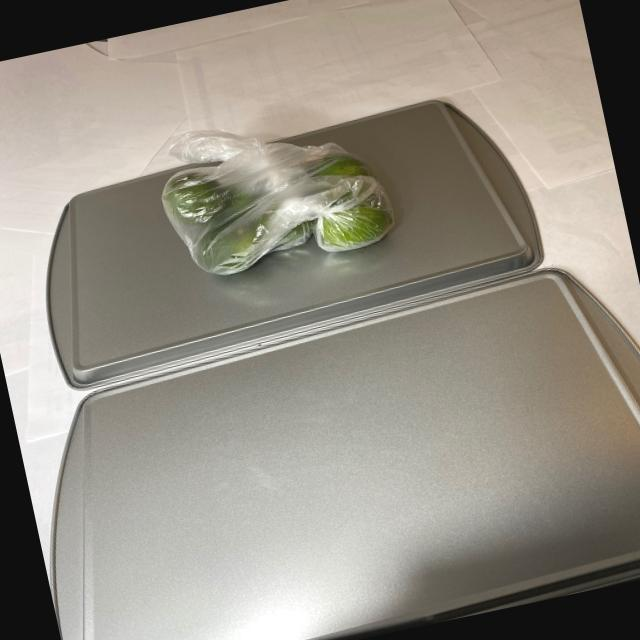lemon: (144, 120, 402, 288)
